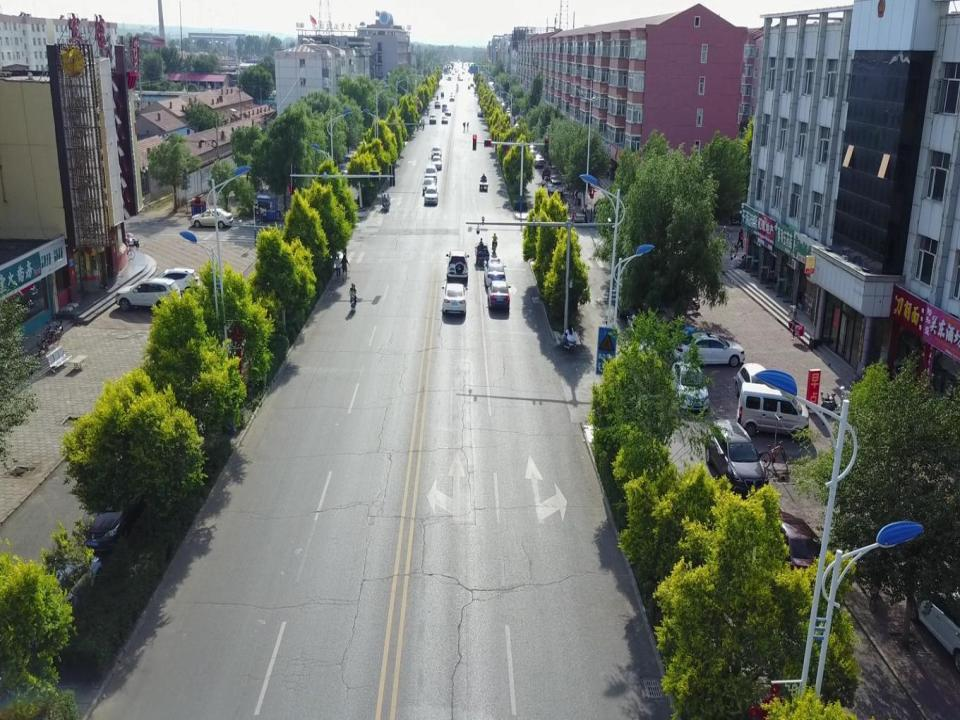car: (78, 463, 151, 550), (760, 505, 825, 586), (704, 419, 770, 494), (912, 570, 960, 672), (735, 382, 811, 435), (44, 548, 101, 614), (674, 331, 746, 368), (115, 276, 181, 310), (671, 358, 710, 411), (735, 360, 772, 406), (151, 269, 201, 292), (444, 279, 468, 316), (486, 279, 511, 314), (189, 209, 234, 228), (446, 248, 469, 278), (483, 260, 505, 289), (548, 178, 562, 196), (425, 186, 438, 204), (422, 177, 435, 194), (426, 164, 437, 180), (534, 152, 546, 166), (432, 154, 440, 170), (432, 146, 442, 158), (428, 114, 436, 124), (441, 116, 448, 124), (434, 101, 440, 109), (445, 108, 451, 115), (477, 108, 482, 116), (450, 93, 454, 103), (441, 103, 446, 110)
